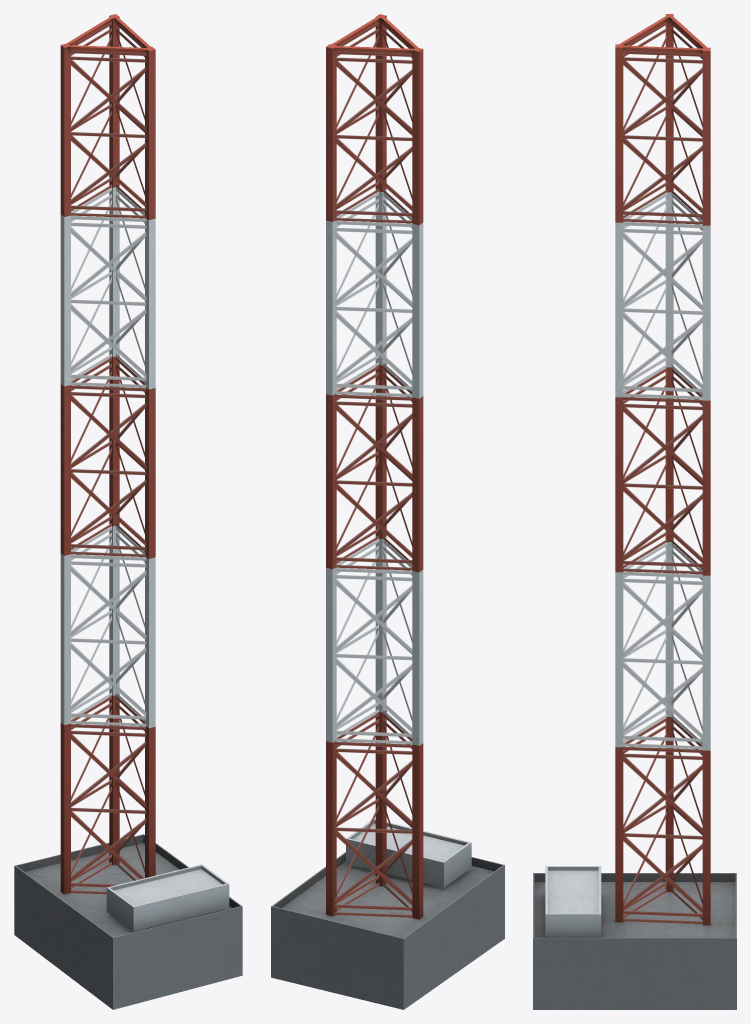
The model's file is weatherStation.gltf.
3 views of the same model, side by side, from view 1: azimuth 30°, elevation 25°; view 2: azimuth 150°, elevation 25°; view 3: azimuth 270°, elevation 25° (orthographic). The views are drawn at different scales.
Parts seen in each view (by area): view 1: weather, frame_A; view 2: weather, frame_A; view 3: weather, frame_A.
Part boxes in pixels (x1,y1,x2,y2): weather: (14, 14, 242, 1009); frame_A: (71, 22, 146, 894); weather: (271, 14, 504, 1009); frame_A: (335, 22, 412, 917); weather: (533, 14, 736, 1009); frame_A: (623, 22, 702, 923).
Bounding box in the file's own units: 77.79 × 523 × 103.
2 materials, 2 textured.
